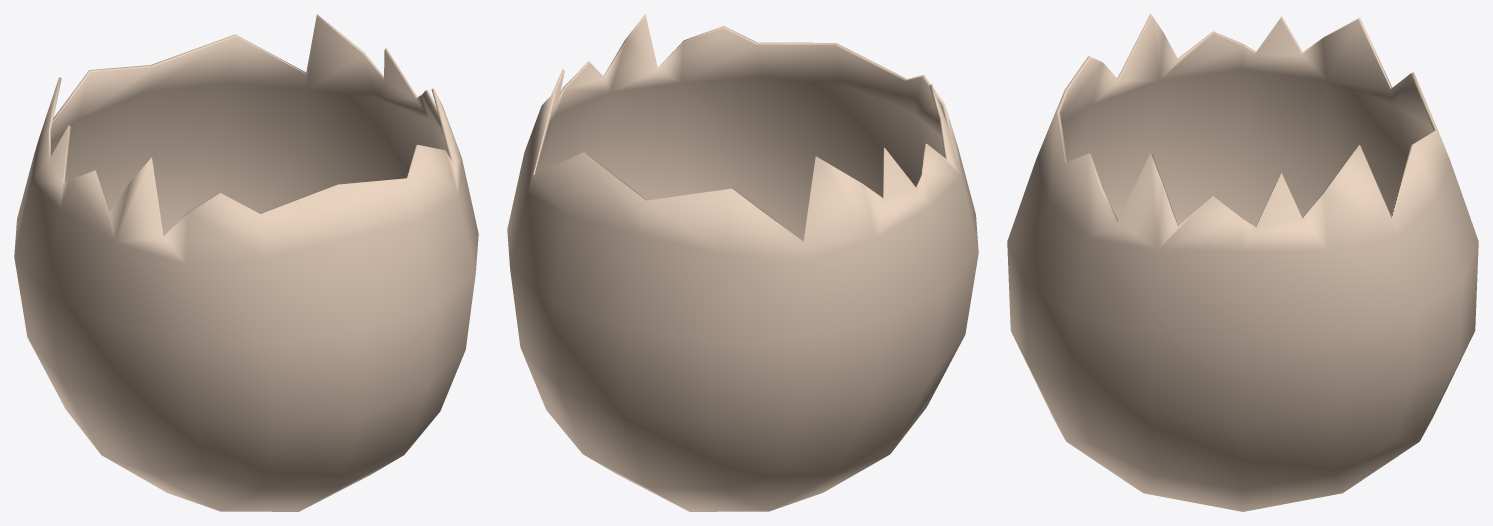
Rendered from CrackedEgg.fbx.
3 renders of one model, left to right at view 1: azimuth 30°, elevation 25°; view 2: azimuth 150°, elevation 25°; view 3: azimuth 270°, elevation 25°, orthographic.
Visible parts, largest first — view 1: Cube; view 2: Cube; view 3: Cube.
Boxes of the visible parts, bbox=[...] form: Cube: bbox=[14, 14, 478, 511]; Cube: bbox=[507, 14, 978, 511]; Cube: bbox=[1007, 14, 1478, 511].
Bounding box in the file's own units: 134 × 130 × 135.
